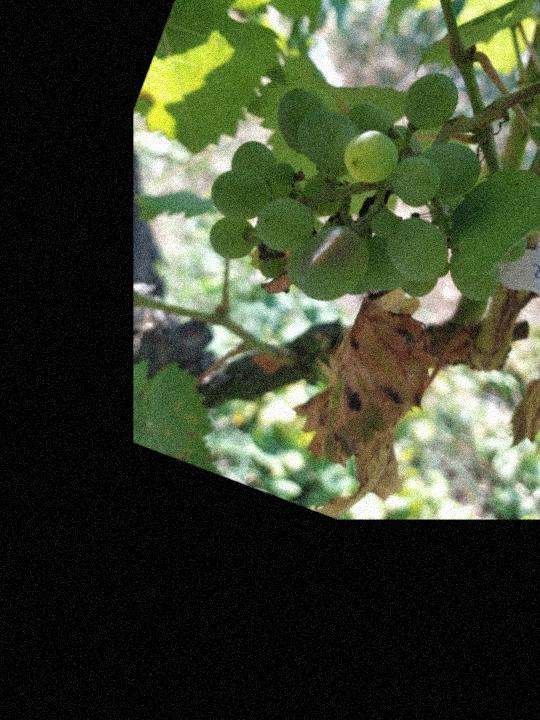grape: (185, 7, 540, 366)
